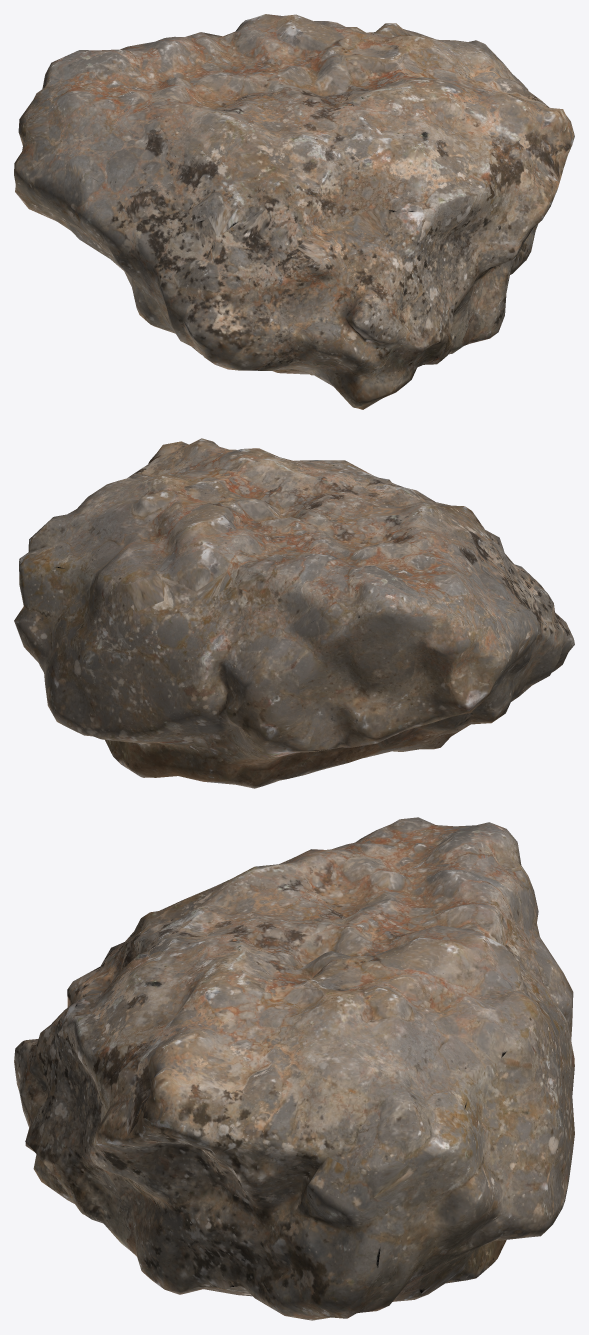
File: SM_wjxudfs_tier_2.gltf
3 renders of one model, top to bottom at view 1: azimuth 30°, elevation 25°; view 2: azimuth 150°, elevation 25°; view 3: azimuth 270°, elevation 25°, orthographic. The views are drawn at different scales.
Visible parts, largest first — view 1: wjxudfs_LOD2_TIER2_000; view 2: wjxudfs_LOD2_TIER2_000; view 3: wjxudfs_LOD2_TIER2_000.
Boxes of the visible parts, <box> form: wjxudfs_LOD2_TIER2_000: <box>14,14,574,409</box>; wjxudfs_LOD2_TIER2_000: <box>14,438,574,788</box>; wjxudfs_LOD2_TIER2_000: <box>14,817,574,1320</box>.
Bounding box in the file's own units: 0.4167 × 0.2107 × 0.3419.
Materials: 1 (1 with a texture image).
